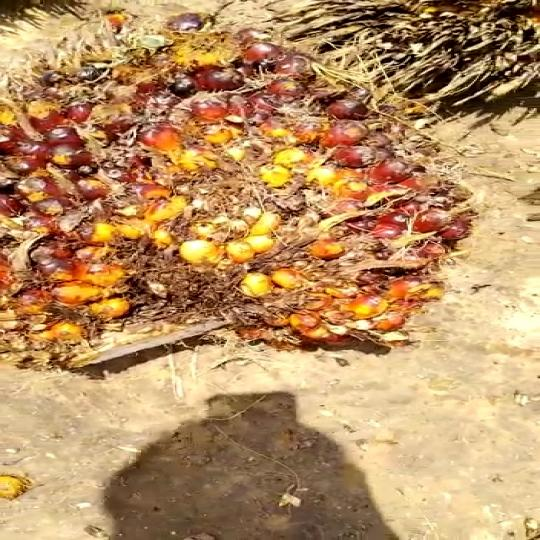masak: (0, 12, 470, 384)
